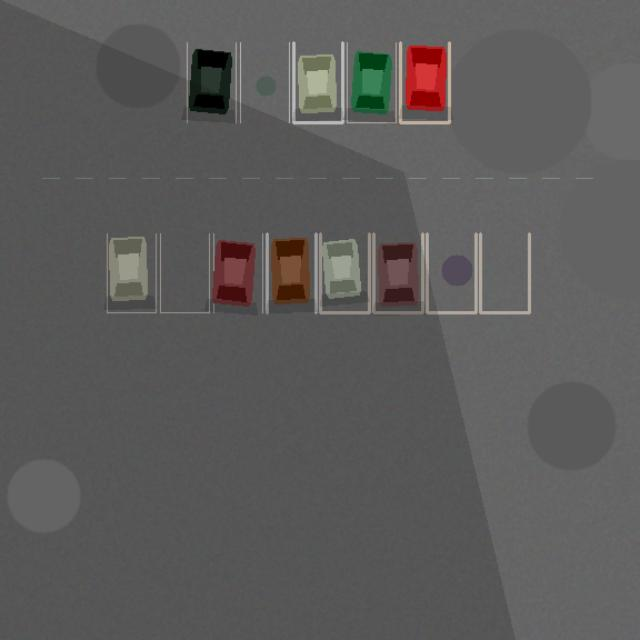space-empty: (240, 42, 289, 122), (160, 233, 209, 312), (427, 233, 476, 312), (480, 233, 529, 312)
space-occupied: (187, 42, 236, 122), (293, 42, 342, 122), (347, 42, 396, 122), (400, 42, 449, 122), (107, 233, 156, 312), (213, 233, 262, 312), (267, 233, 316, 312), (320, 233, 369, 312), (373, 233, 422, 312)
